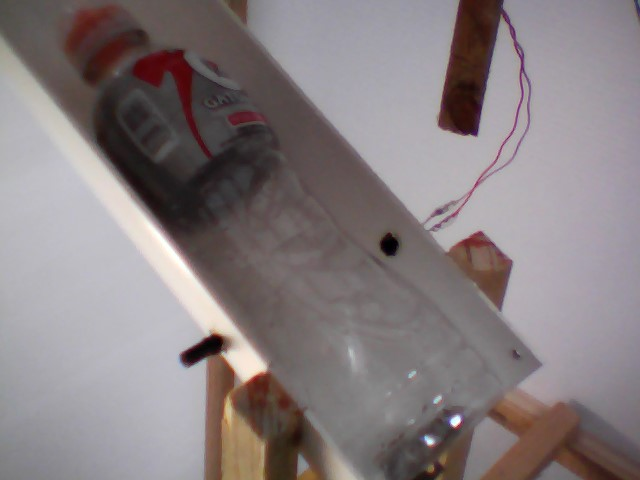plastico: (52, 7, 511, 480)
